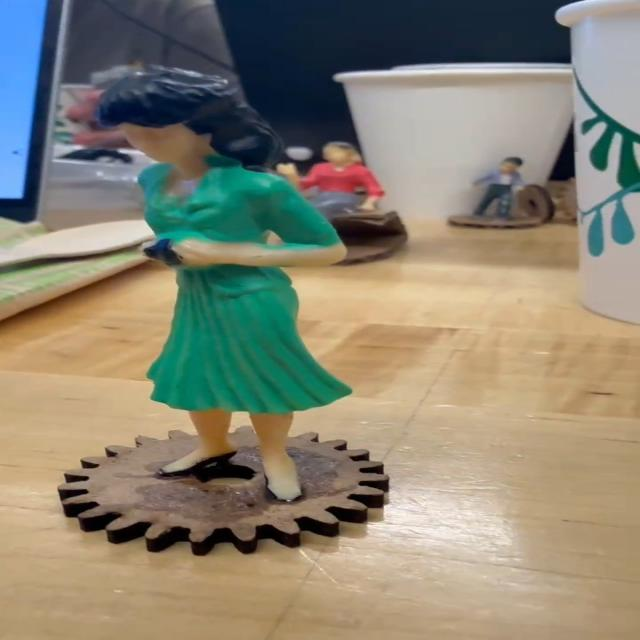Authorized: (92, 62, 359, 502)
